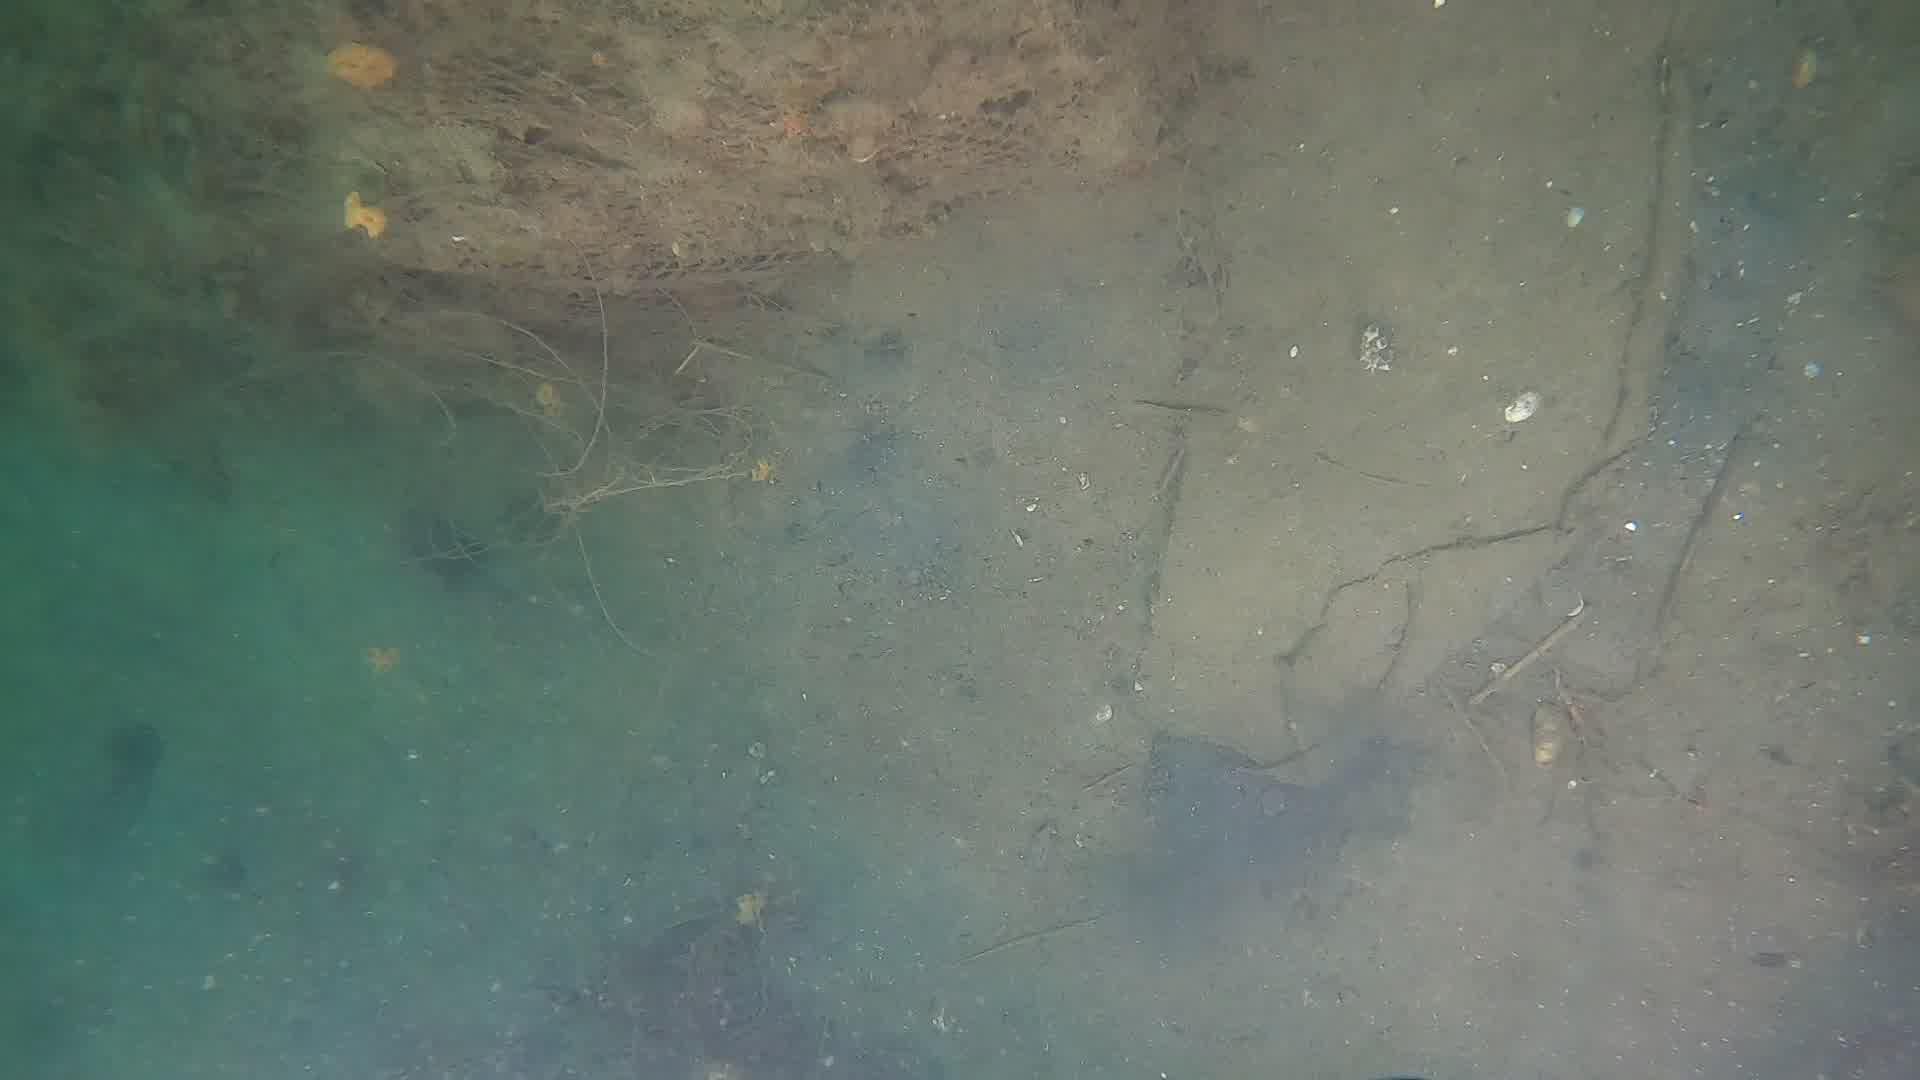fish net: (444, 53, 1073, 285)
